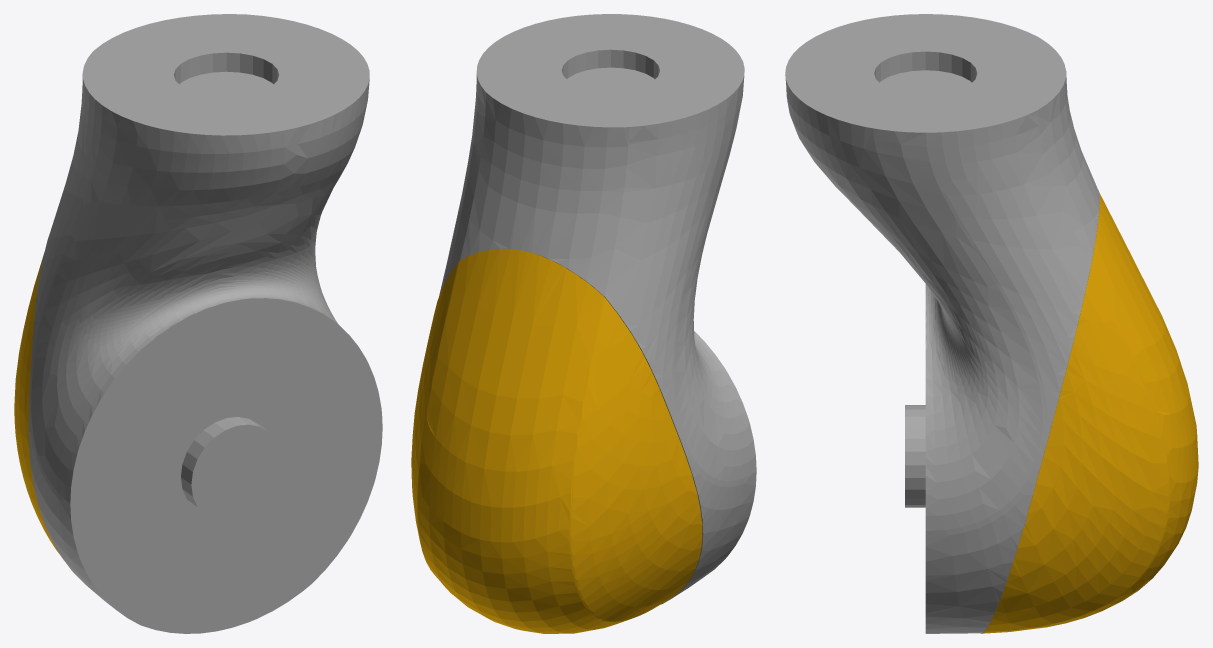
Rendered from iiwa_link_2.glb.
3 views of the same model, side by side, from view 1: azimuth 30°, elevation 25°; view 2: azimuth 150°, elevation 25°; view 3: azimuth 270°, elevation 25° (orthographic). The views are drawn at different scales.
Visible parts, largest first — view 1: ShapeIndexedFaceSet; view 2: ShapeIndexedFaceSet; view 3: ShapeIndexedFaceSet.
Boxes of the visible parts, <box> form: ShapeIndexedFaceSet: <box>14,14,382,633</box>; ShapeIndexedFaceSet: <box>411,14,756,633</box>; ShapeIndexedFaceSet: <box>785,14,1198,633</box>.
Size of the model in its own units: 0.171 by 0.2899 by 0.2001.
